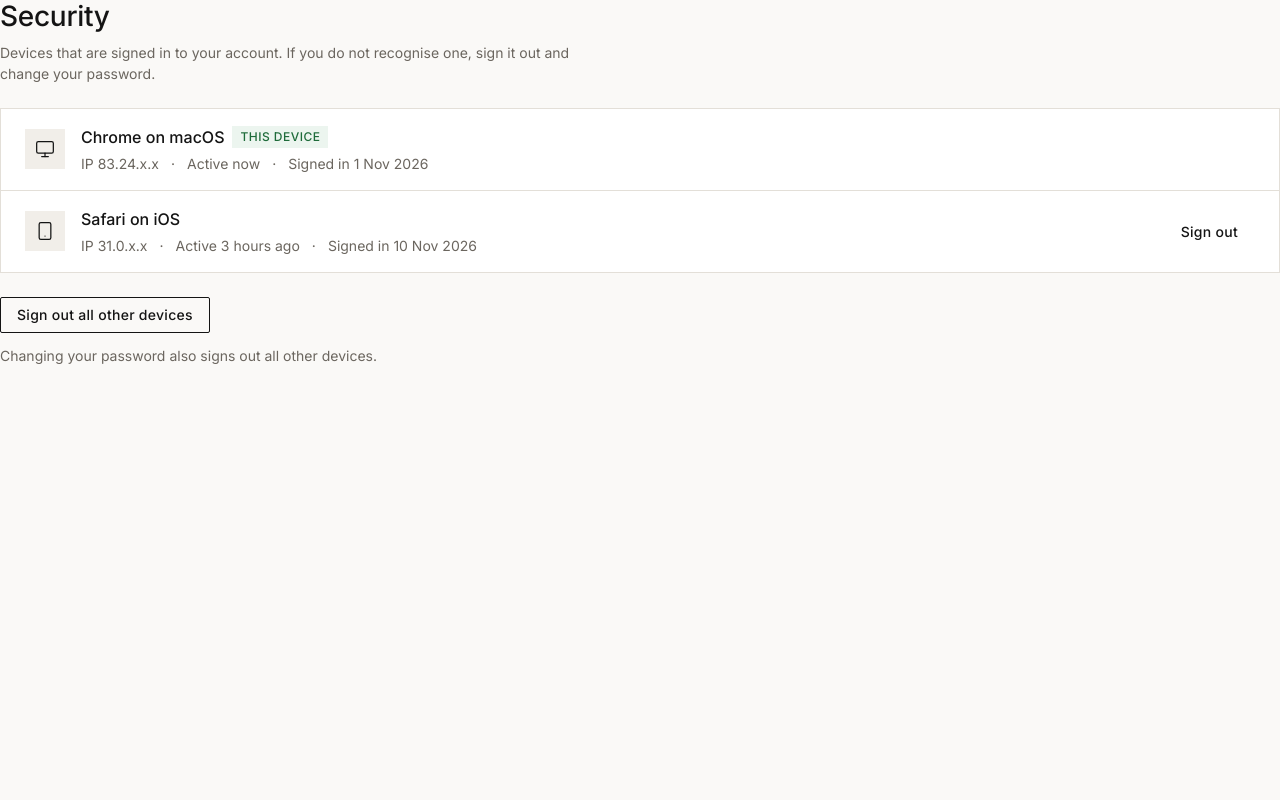
Scenario: SecurityPage › signs out another device after confirming
Click the button with aria-label "Sign out Safari on iOS".
click(1209, 231)  # box top-left (1164, 213), bottom-right (1255, 249)
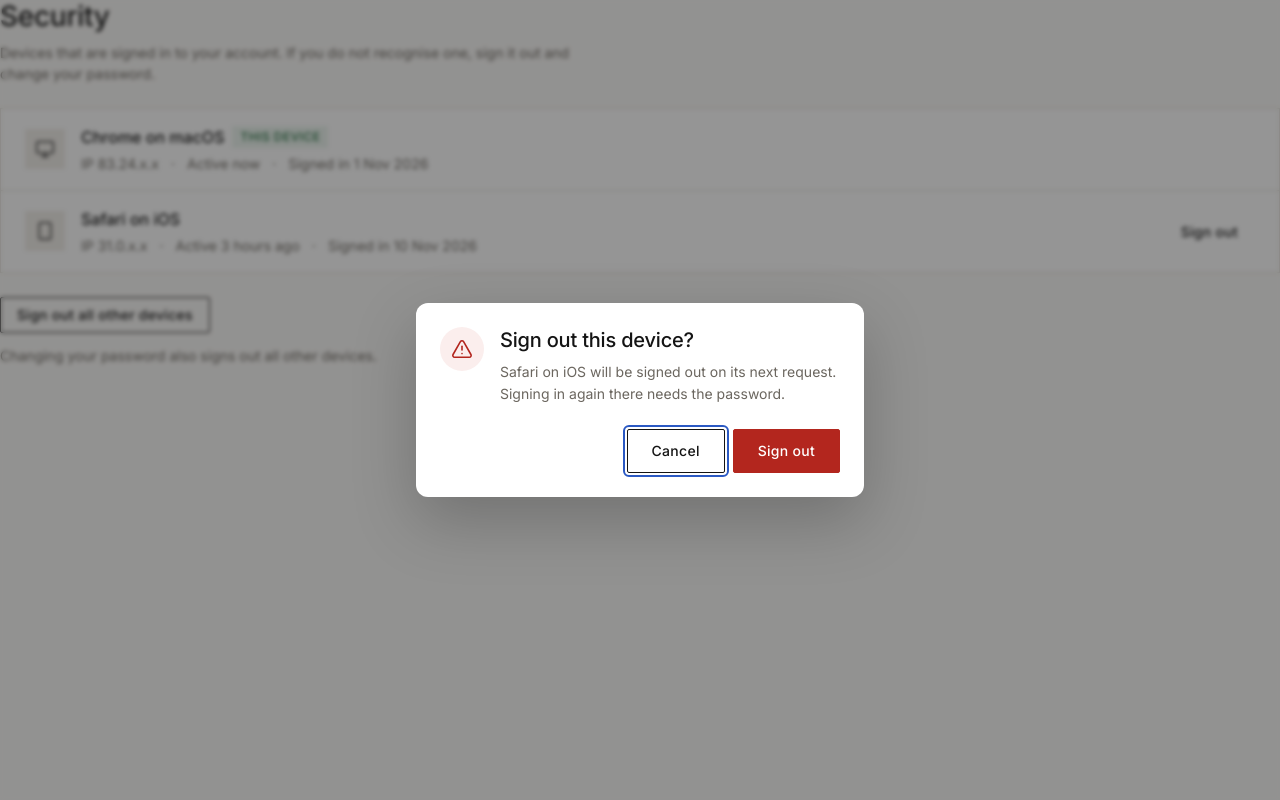
Now the text "Safari on iOS will be signed out" is shown, box top-left (500, 363), bottom-right (836, 402)
Click the button "Sign out".
click(786, 451)  # box top-left (733, 429), bottom-right (840, 473)
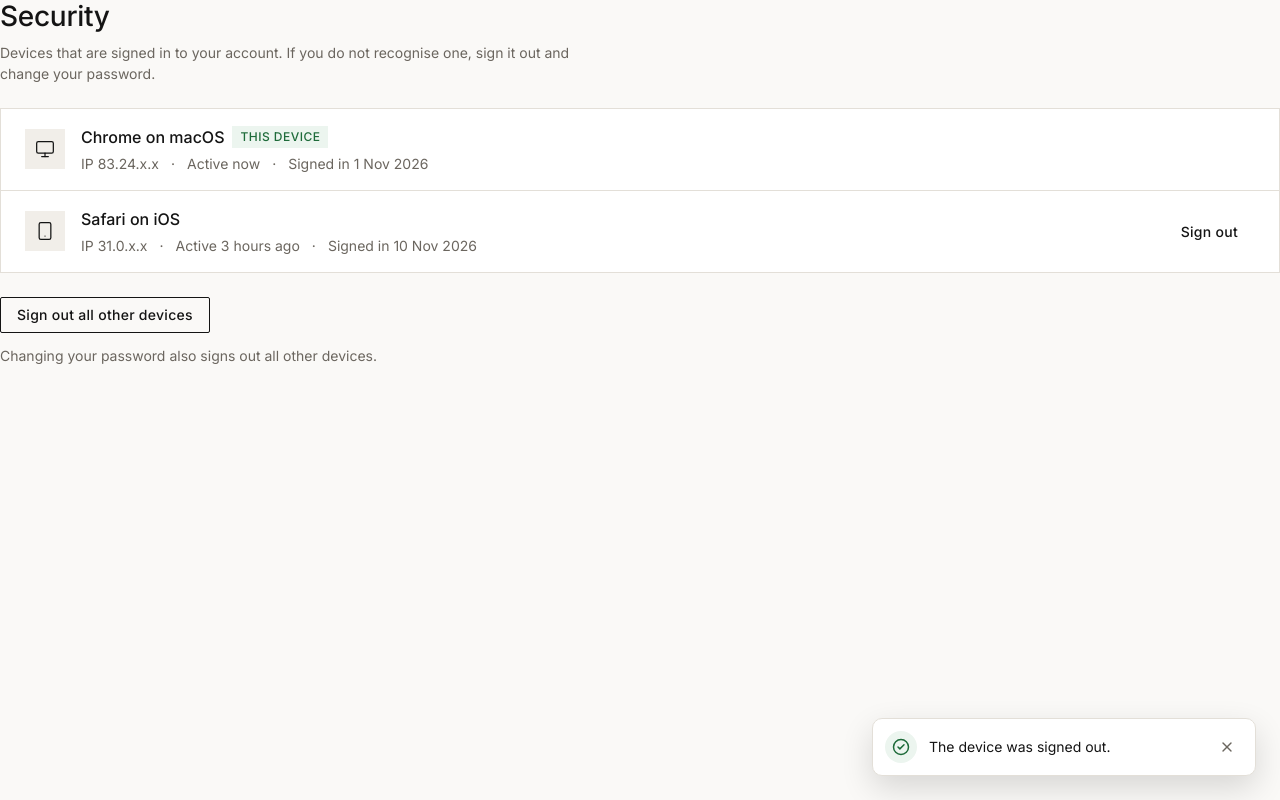
Now the text "The device was signed out." is shown, box top-left (929, 738), bottom-right (1110, 755)
